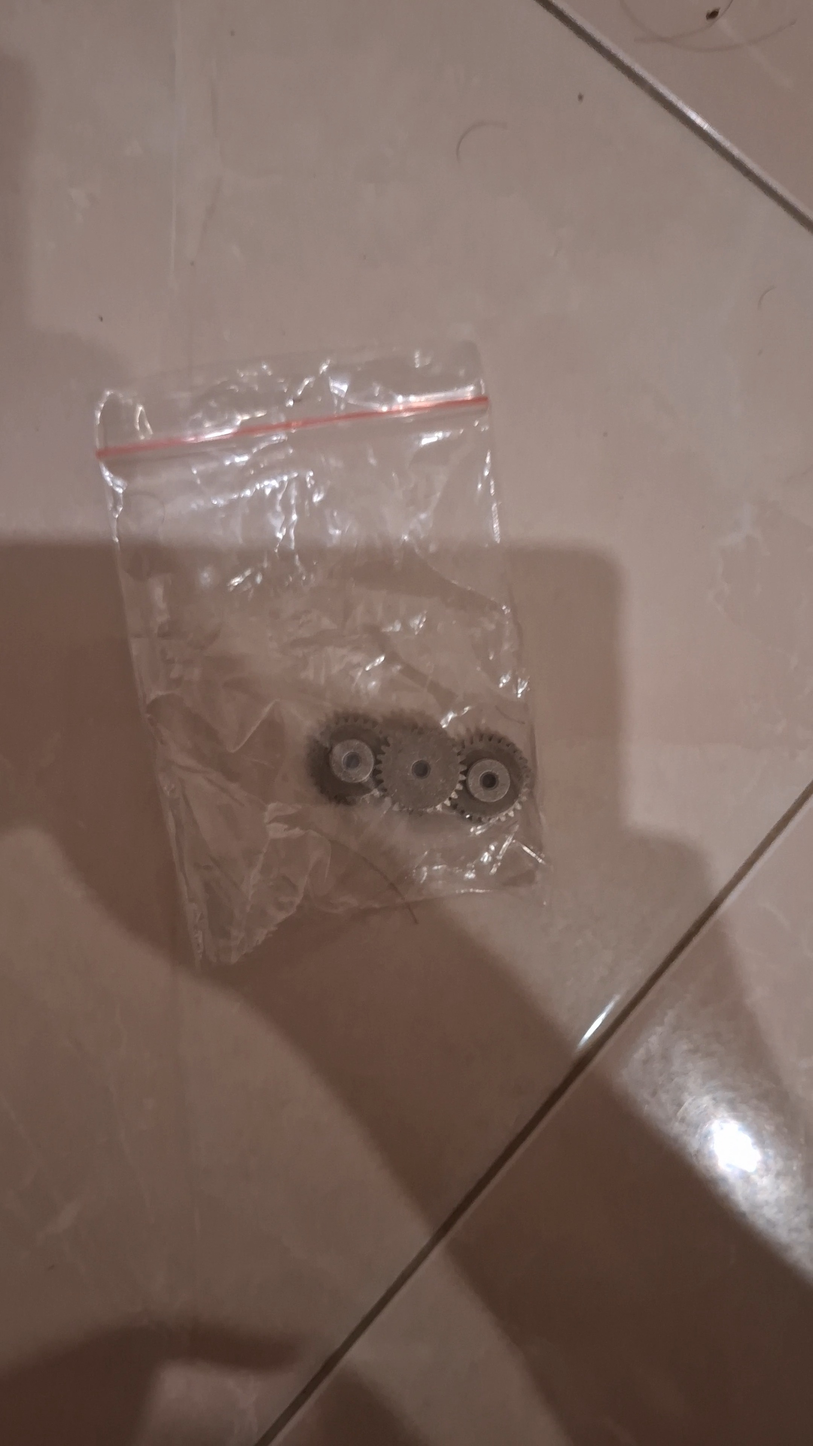spur gear: (377, 723, 461, 812), (454, 734, 531, 822), (311, 714, 383, 802)
